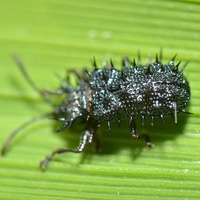insect: (0, 55, 189, 167)
